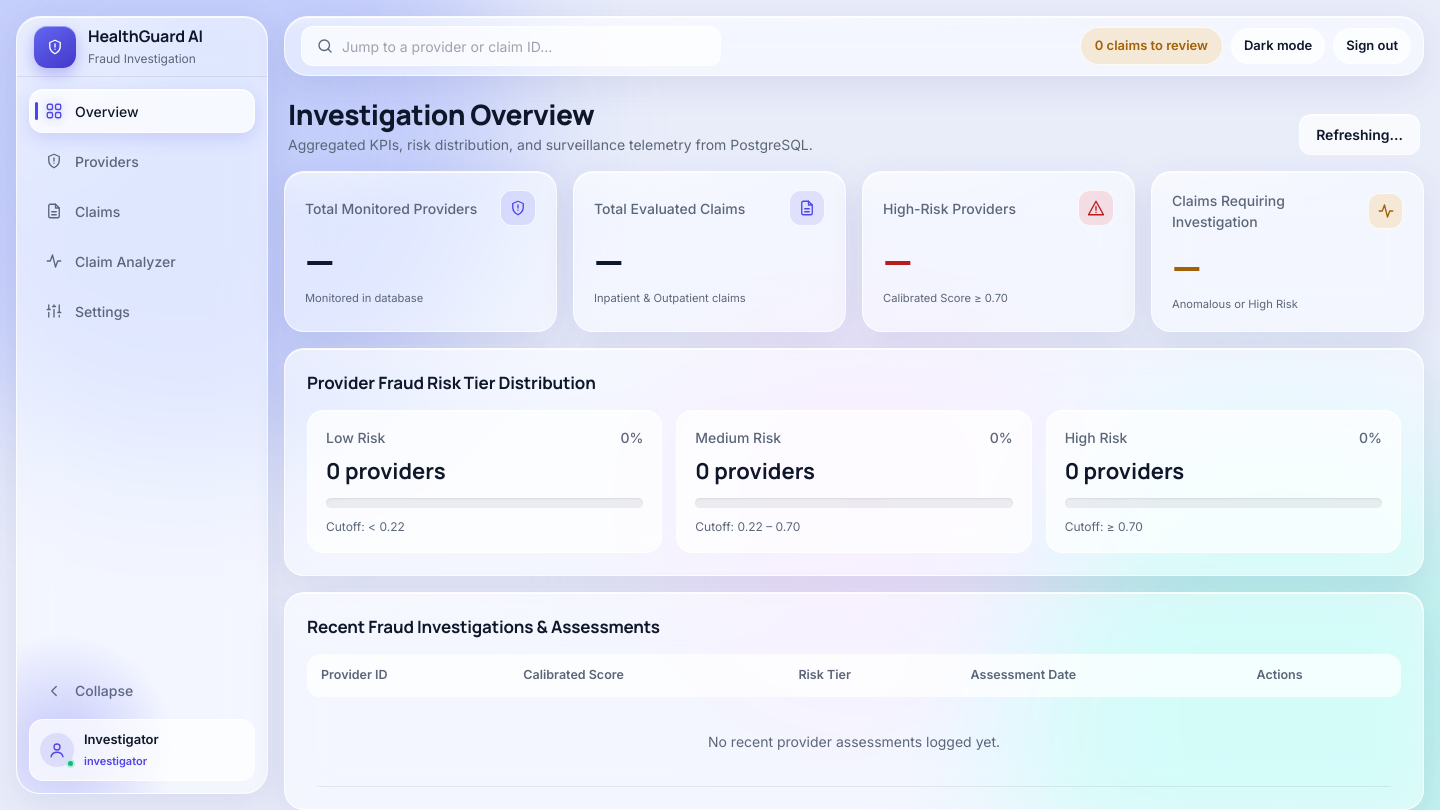
Test: HealthGuard AI Frontend Integration Tests › loads realistic synthetic test data via Fill Sample button and displays notice
The image size is (1440, 810).
Later steps or results of the test are not shown.
Click the button "Claim Analyzer": [142, 261] box [29,239,255,283]
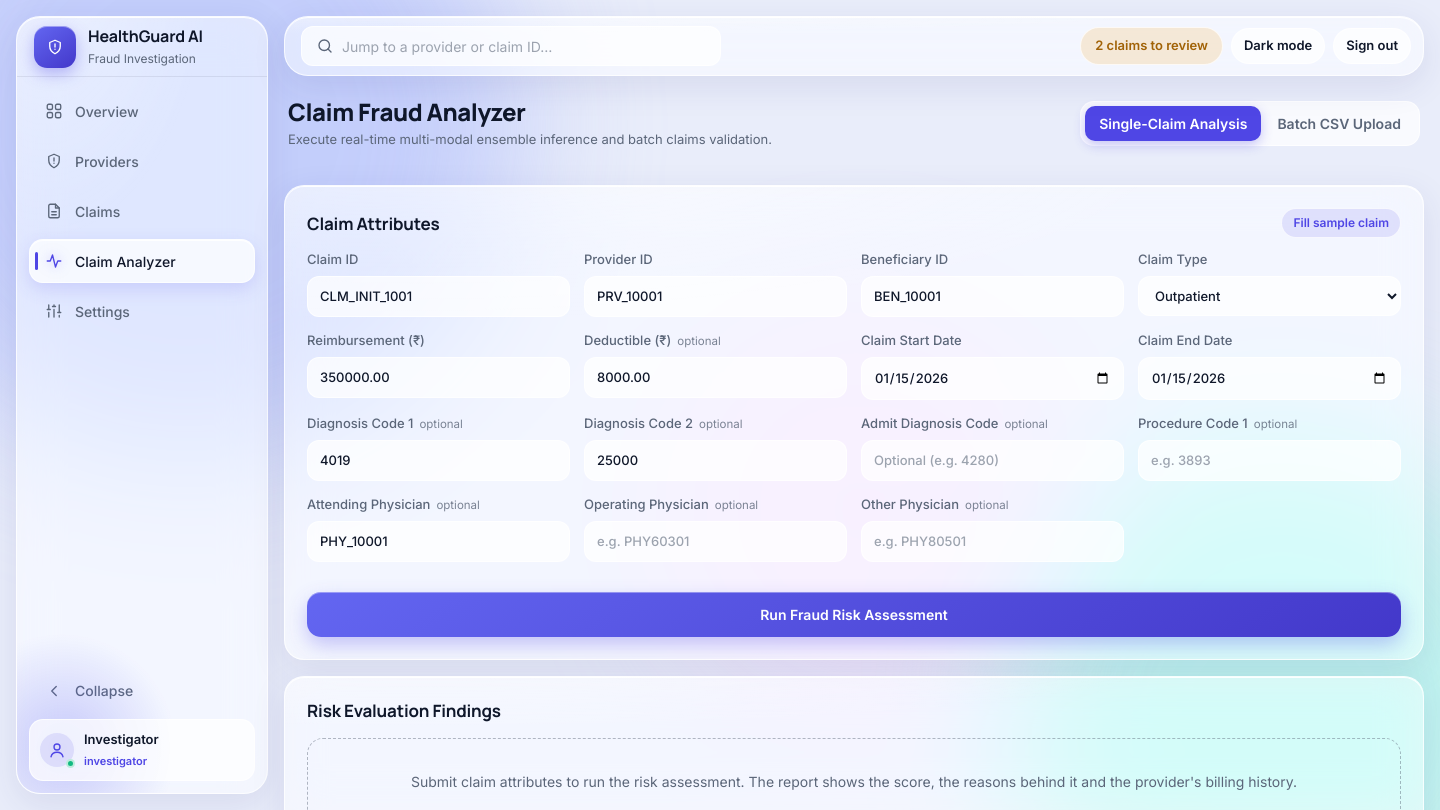
Check: the button "Fill sample claim" is shown, box [1282,208,1401,238]
